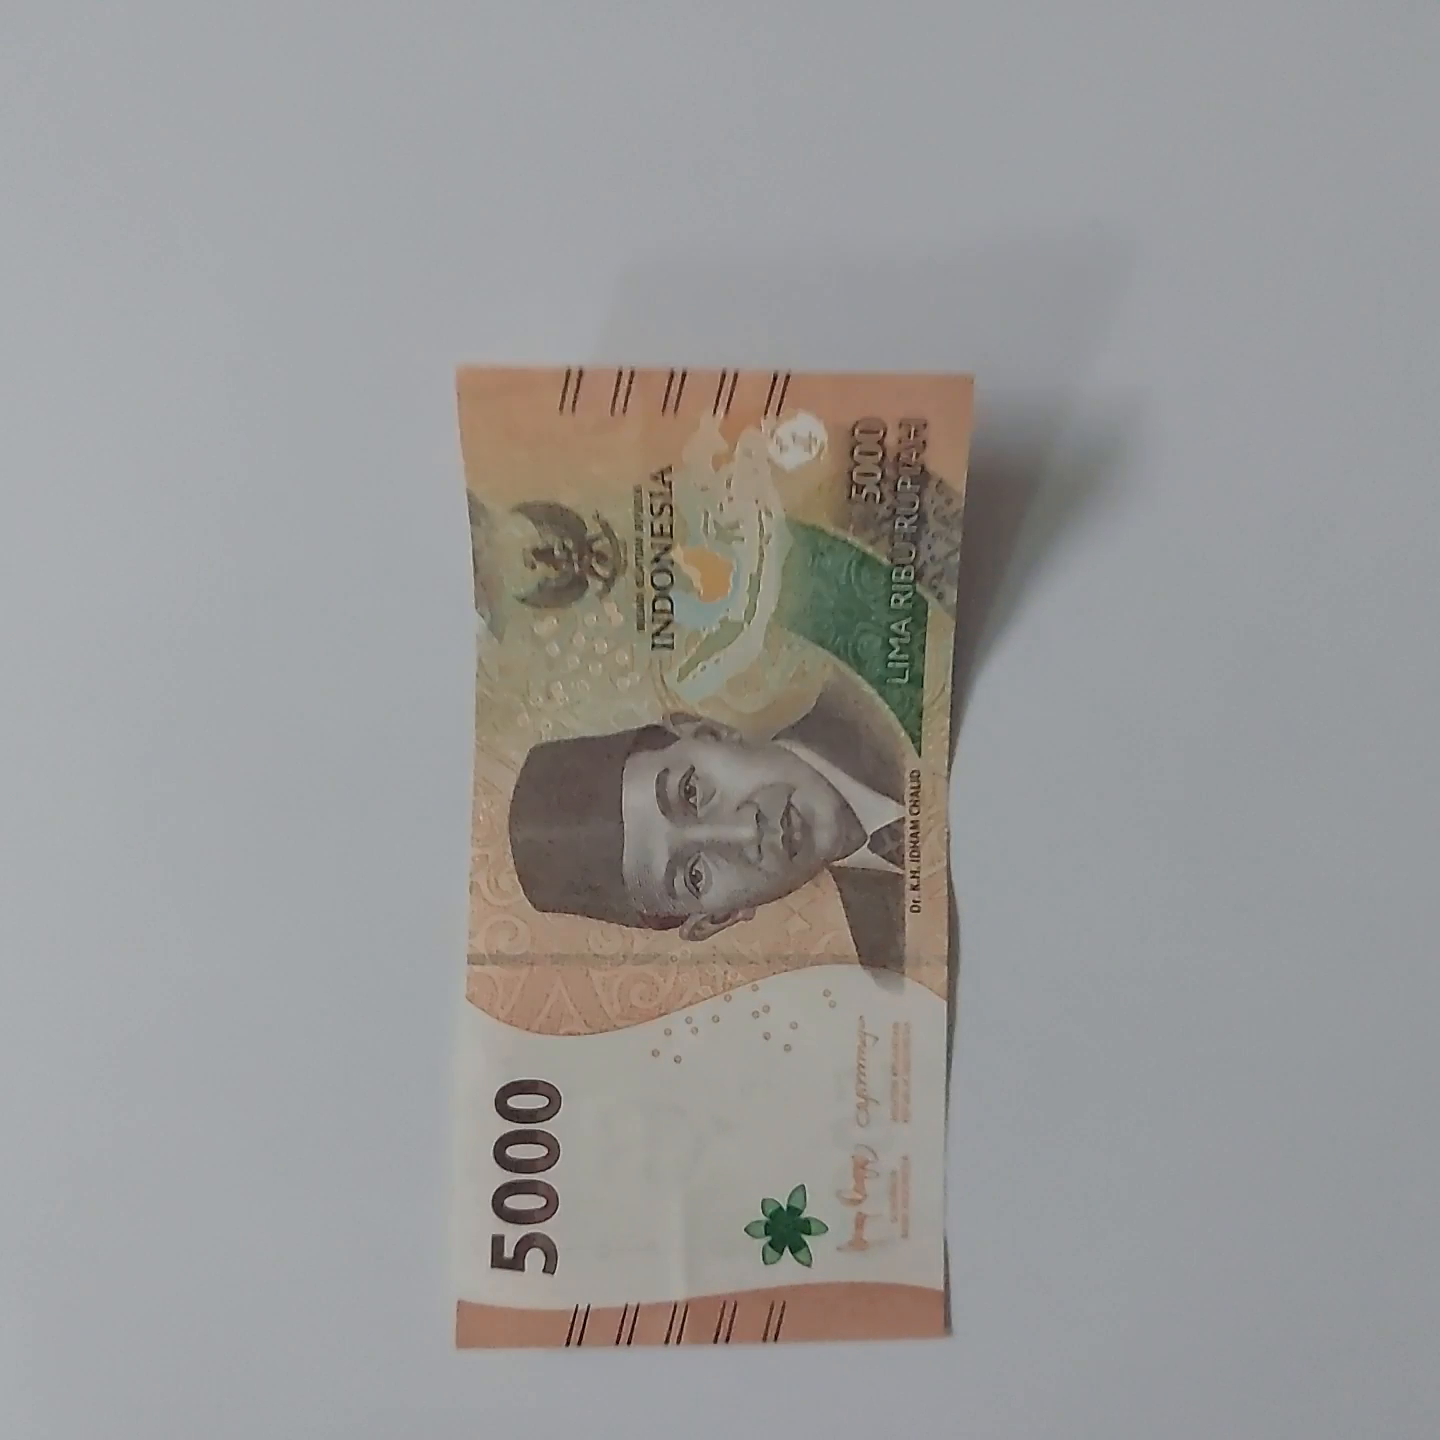5k: (439, 347, 960, 1357)
